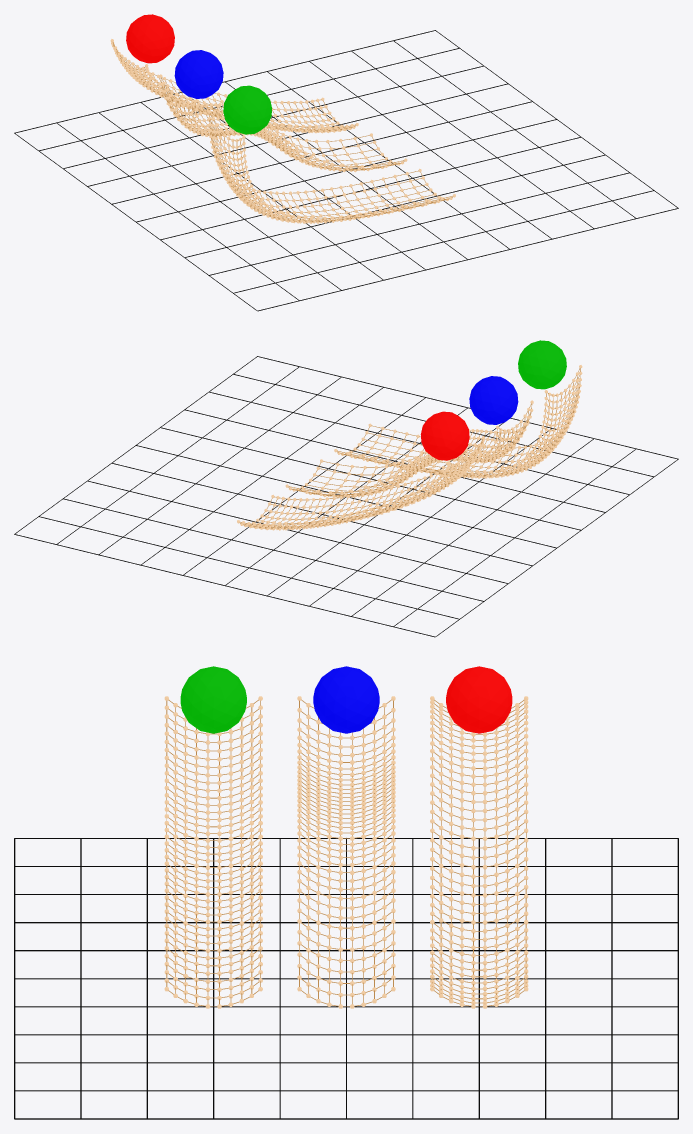
File: ballRacing.glb
3 renders of one model, top to bottom at view 1: azimuth 30°, elevation 25°; view 2: azimuth 150°, elevation 25°; view 3: azimuth 270°, elevation 25°, orthographic. The views are drawn at different scales.
Bounding box in the file's own units: 10.02 × 3.53 × 10.02.
